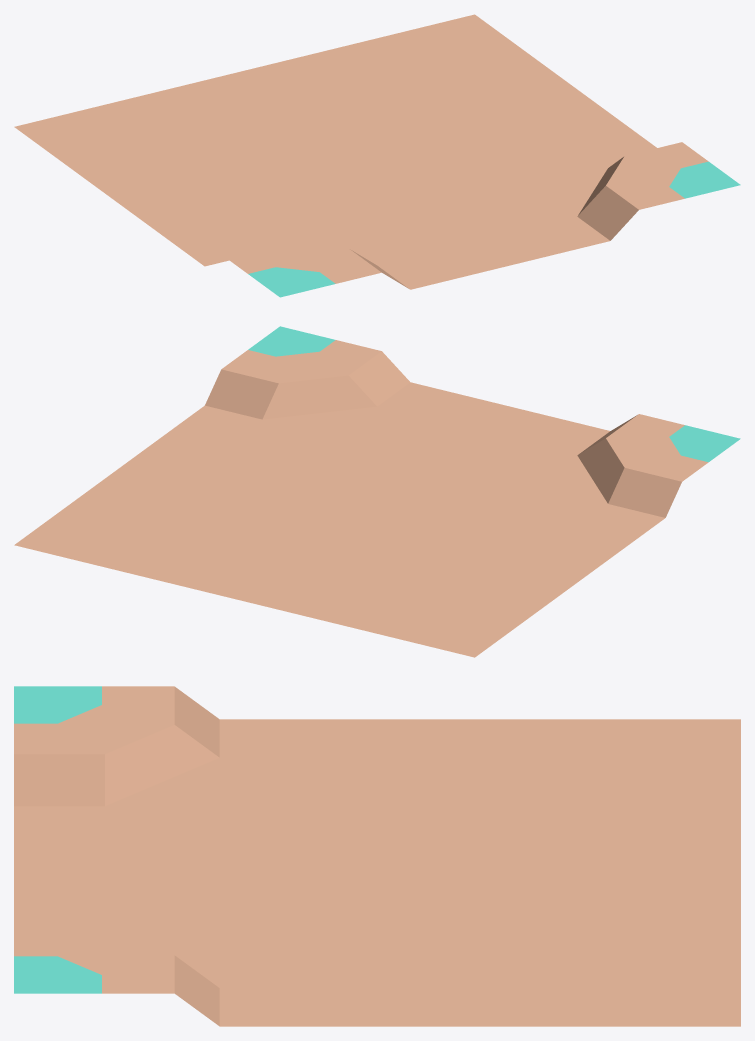
File: ground_pathsideopen.glb
3 renders of one model, top to bottom at view 1: azimuth 30°, elevation 25°; view 2: azimuth 150°, elevation 25°; view 3: azimuth 270°, elevation 25°, orthographic. The views are drawn at different scales.
Visible parts, largest first — view 1: ground_pathSideOpen; view 2: ground_pathSideOpen; view 3: ground_pathSideOpen.
Part boxes in pixels (box(x1,y1,x2,y2)): ground_pathSideOpen: box(14, 14, 740, 297); ground_pathSideOpen: box(14, 326, 740, 657); ground_pathSideOpen: box(14, 686, 740, 1026).
Size of the model in its own units: 1 by 0.05 by 1.
